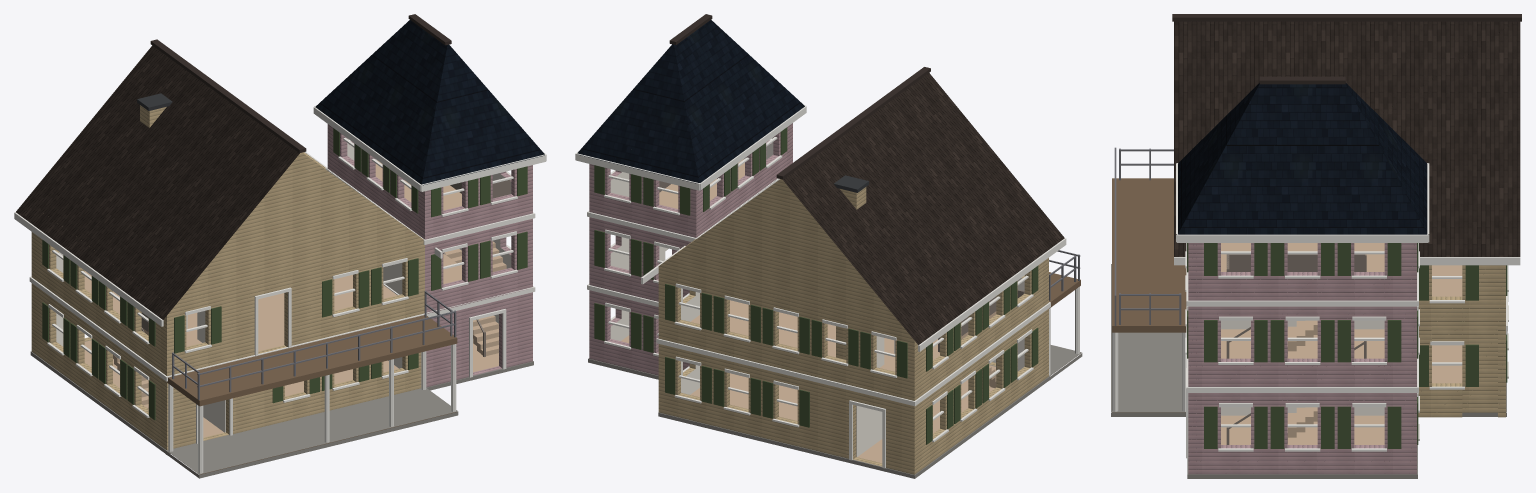
File: ns-victorian.towns-v2.lod0.glb
3 views of the same model, side by side, from view 1: azimuth 30°, elevation 25°; view 2: azimuth 150°, elevation 25°; view 3: azimuth 270°, elevation 25° (orthographic). The views are drawn at different scales.
Visible parts, largest first — view 1: ns-victorian; view 2: ns-victorian; view 3: ns-victorian.
Boxes of the visible parts, box(x1,y1,x2,y2) form: ns-victorian: box(14, 14, 546, 478); ns-victorian: box(575, 14, 1082, 478); ns-victorian: box(1111, 14, 1521, 478).
Size of the model in its own units: 16.48 by 12.84 by 12.93.
6 materials, 3 textured.
